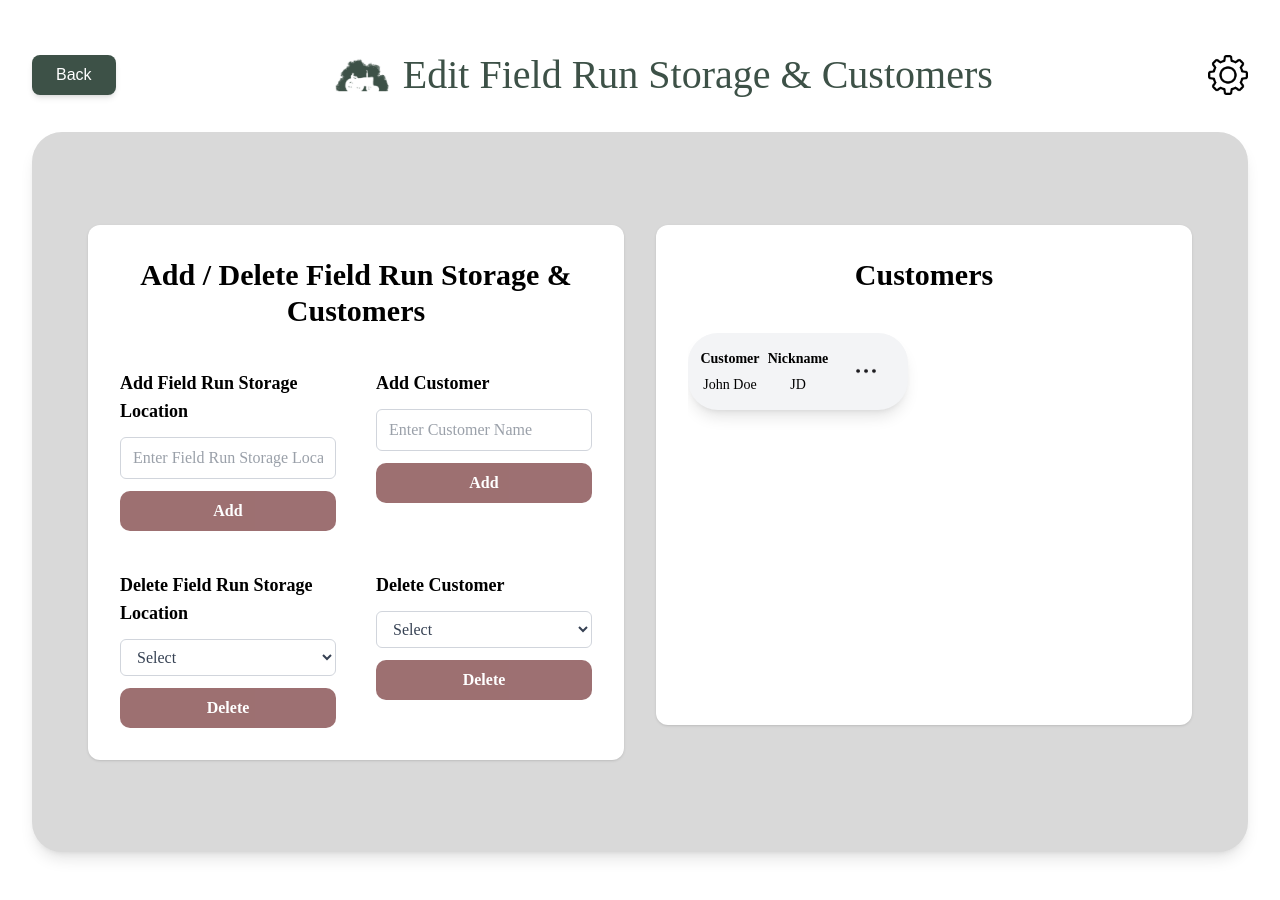
Test: EditFRStorageSuppliers (unit tests) › disables Add buttons when inputs are empty and enables them when filled
Expected: the button "Add" below "Add Field Run Storage Location" is disabled, [120, 490, 336, 530]
Expected: the button "Add" below "Add Customer" is disabled, [376, 462, 592, 502]
Type "Silo X" into the field with placeholder "Enter Field Run Storage Location".
click(228, 458); type("Silo X")  # box [120, 436, 336, 478]
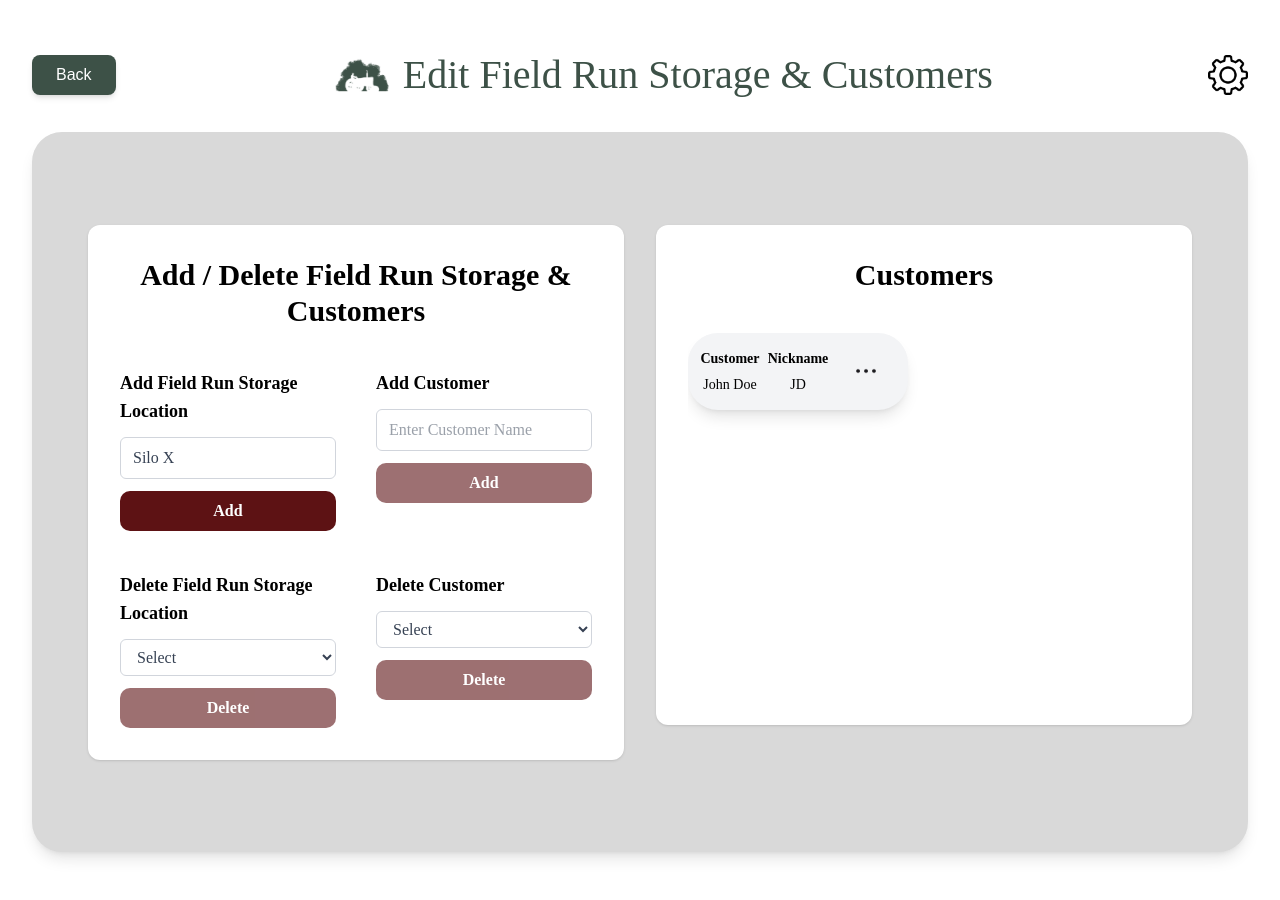
Now the button "Add" below "Add Field Run Storage Location" is enabled, box [120, 490, 336, 530]
Clear the field with placeholder "Enter Field Run Storage Location" at (228, 458), box [120, 436, 336, 478]
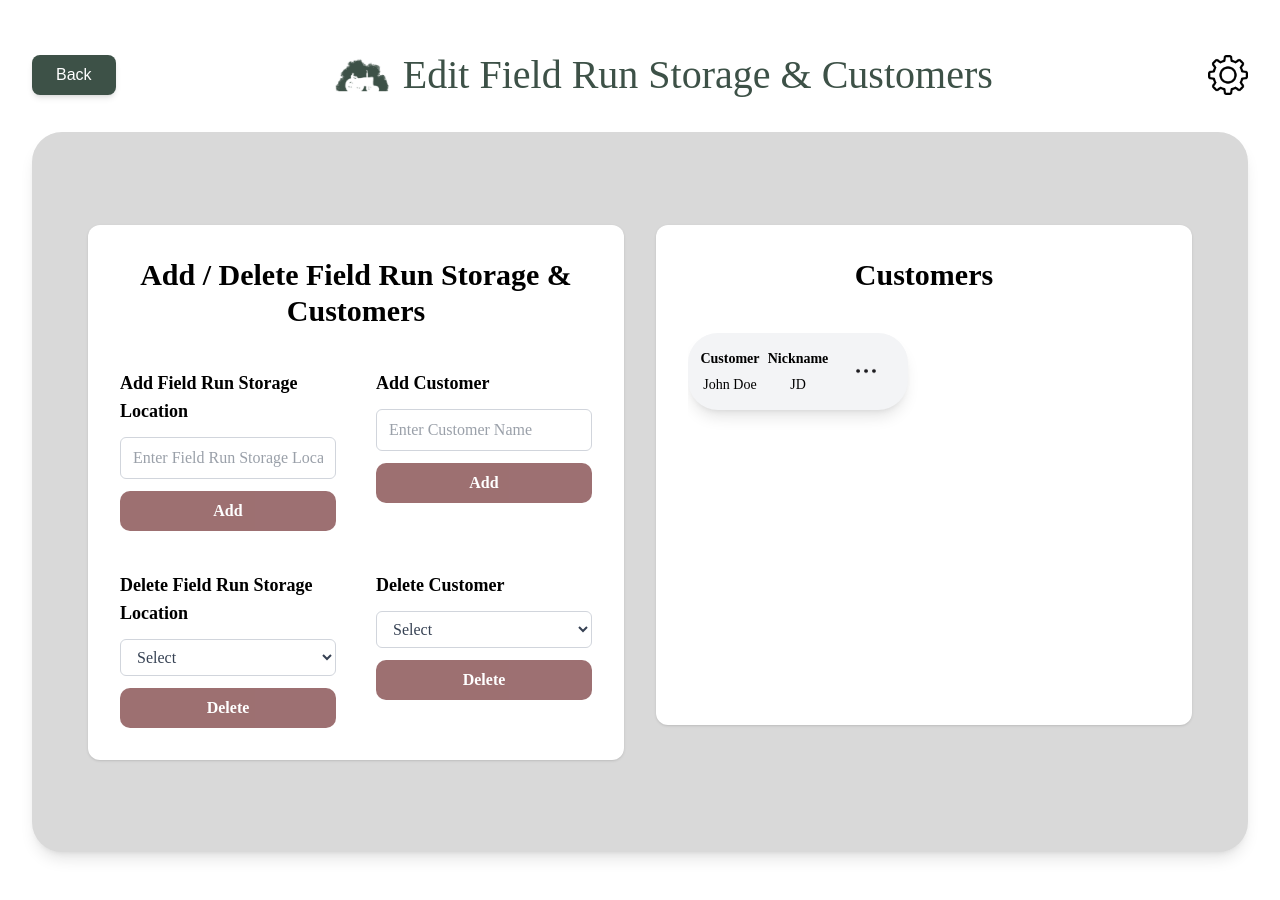
Now the button "Add" below "Add Field Run Storage Location" is disabled, box [120, 490, 336, 530]
Type "New Customer" into the field with placeholder "Enter Customer Name".
click(484, 430); type("New Customer")  # box [376, 408, 592, 450]
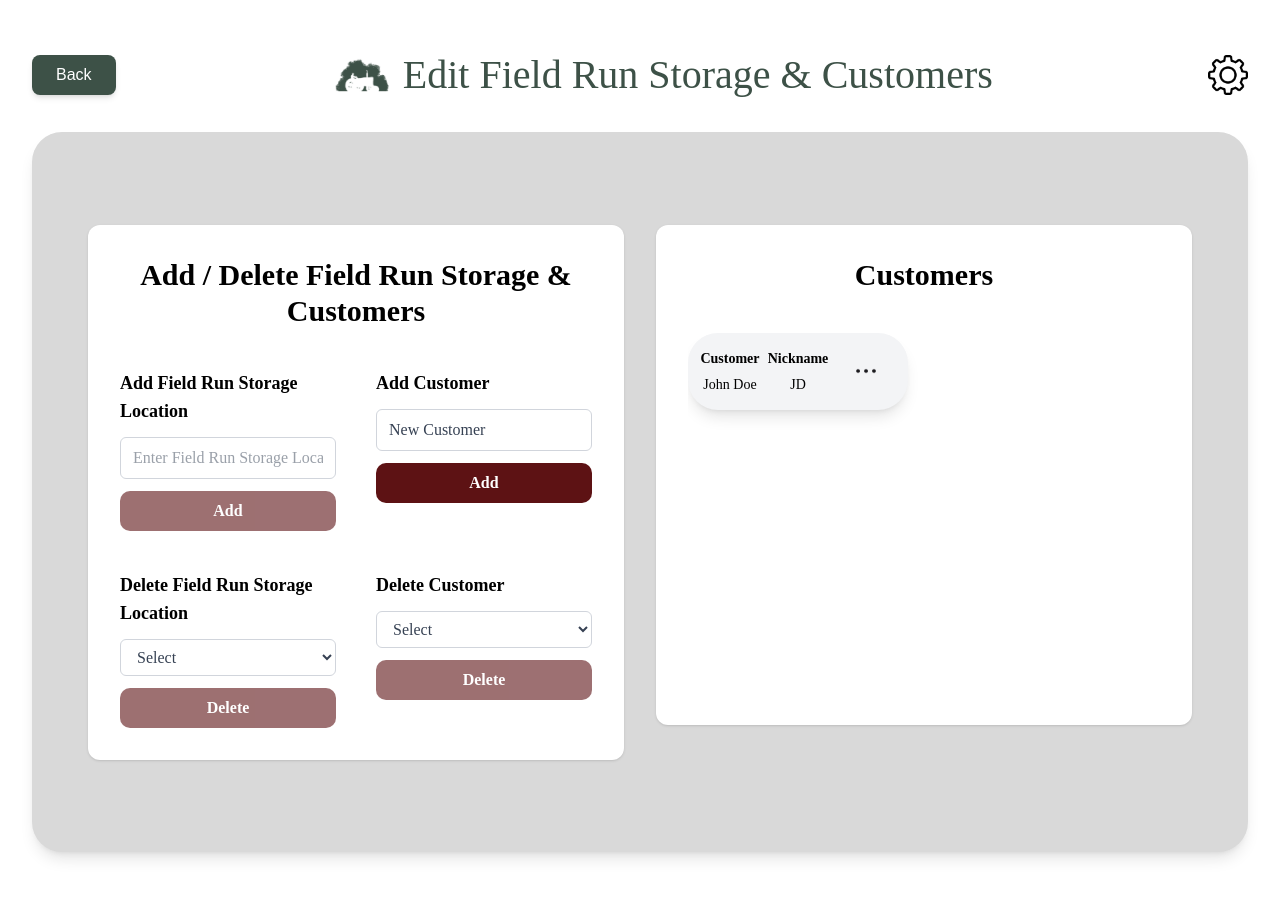
Now the button "Add" below "Add Customer" is enabled, box [376, 462, 592, 502]
